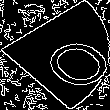O_NW: (8, 21, 102, 89)
